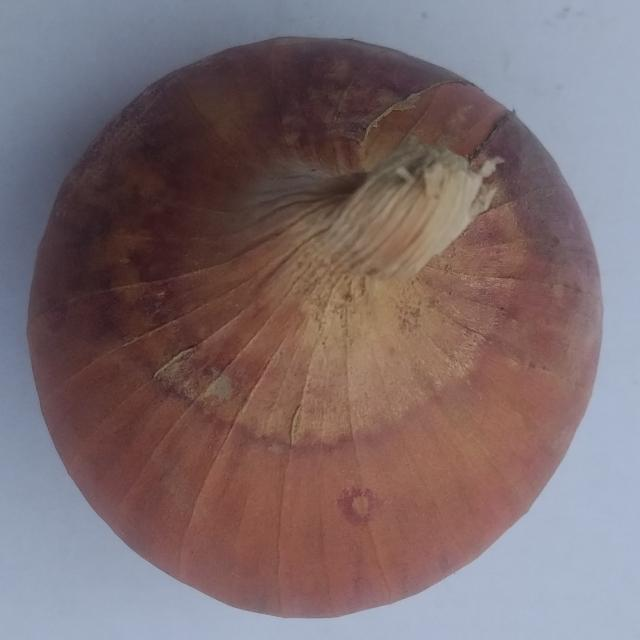onion: (24, 36, 604, 622)
